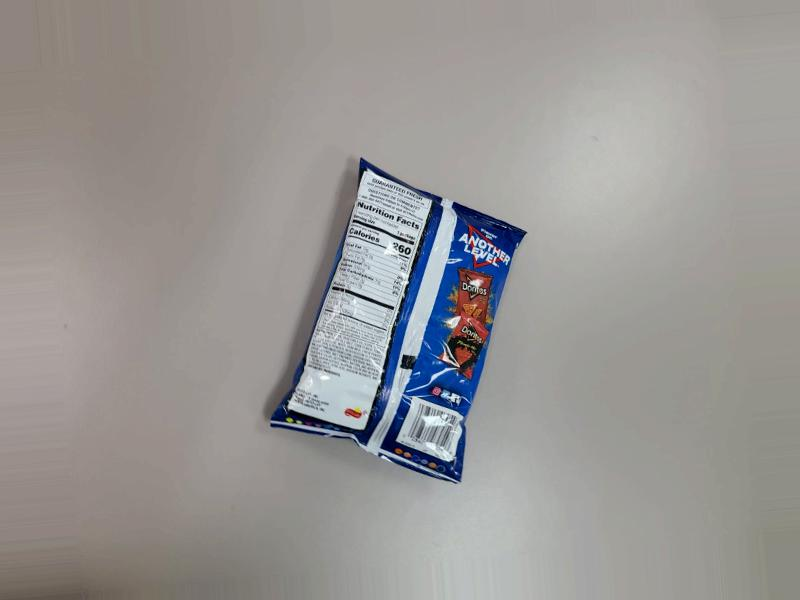doritos: (254, 175, 510, 490)
